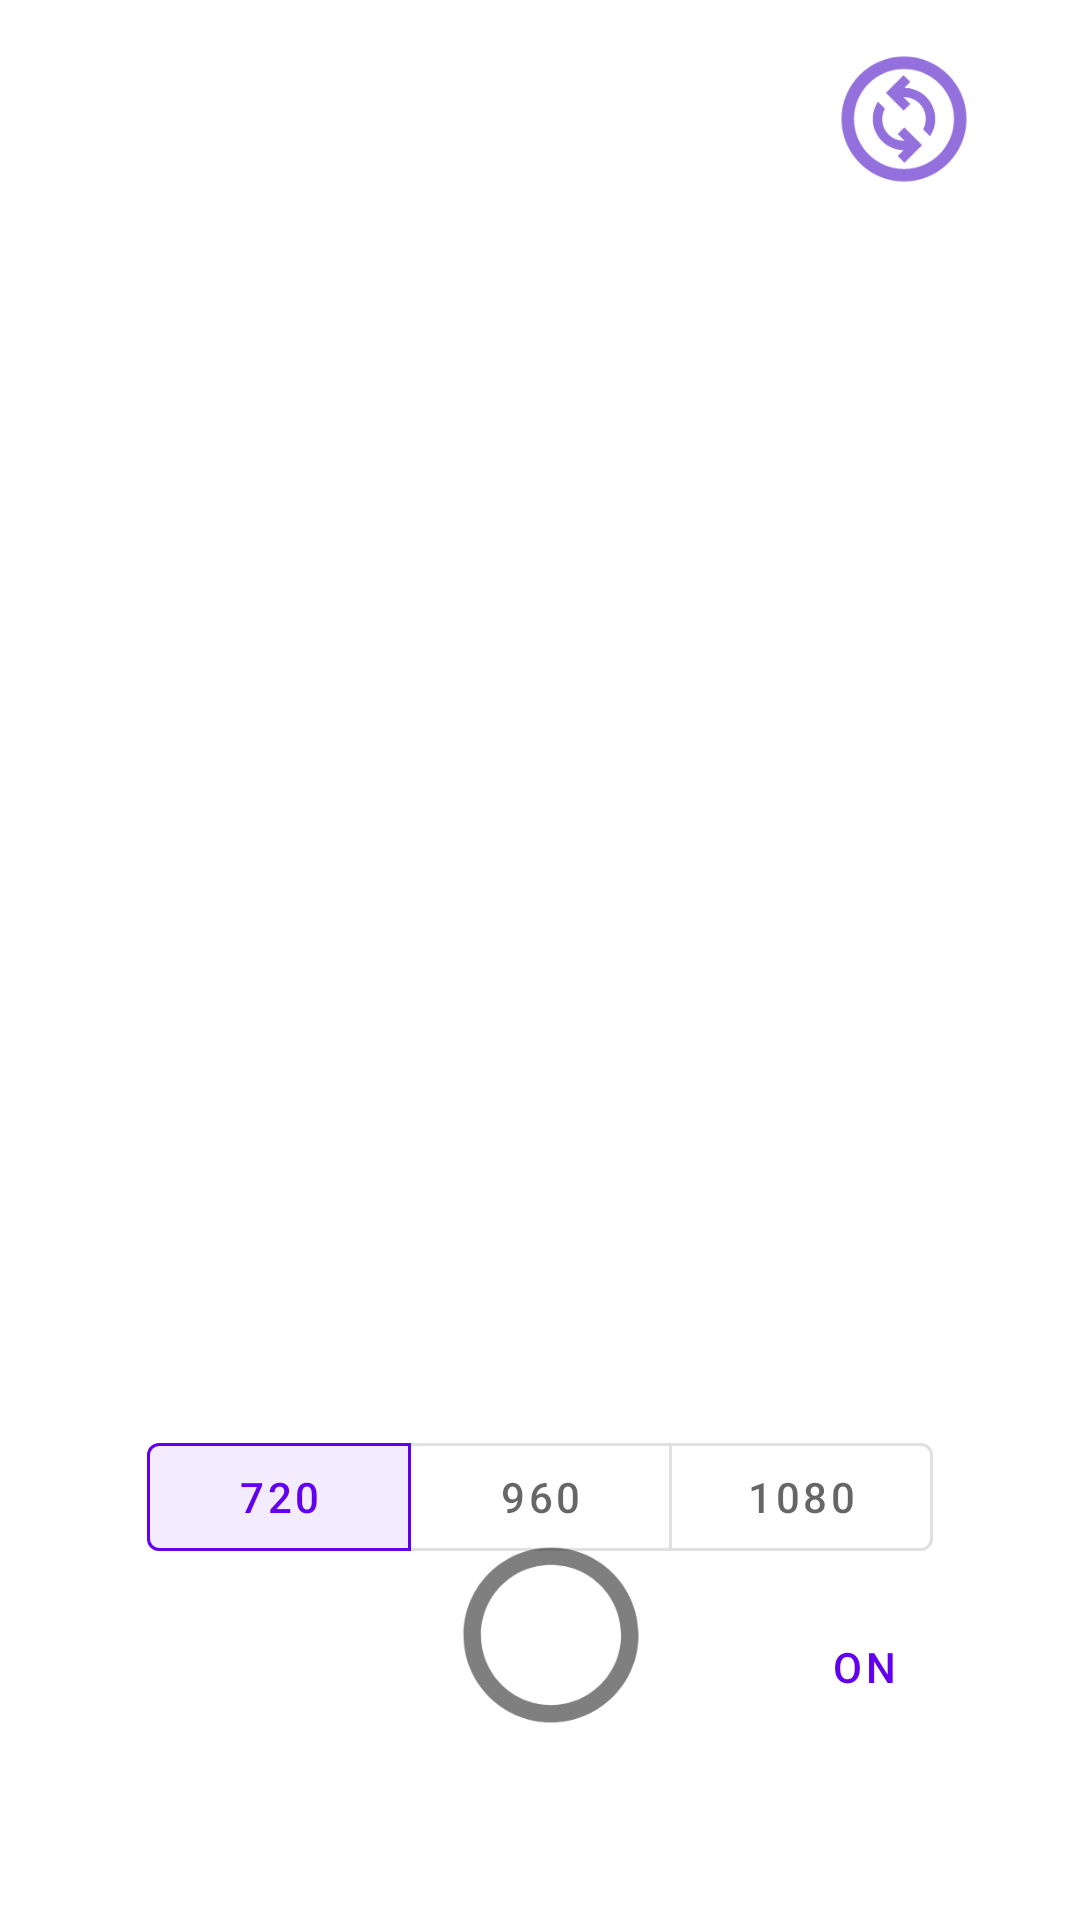

Icon click points for this 1080x1920 phone screenshot, format (x,y):
change circle: (904,119)
